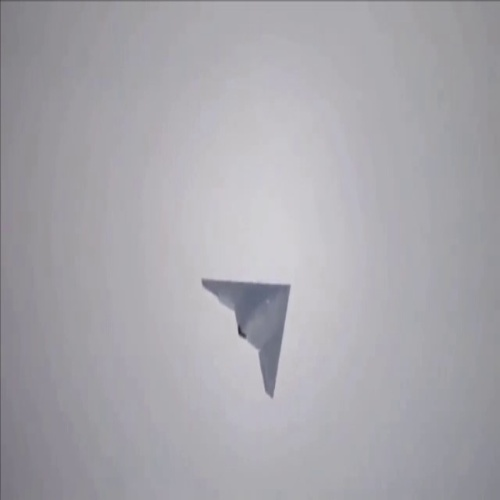uav910: (195, 270, 295, 401)
